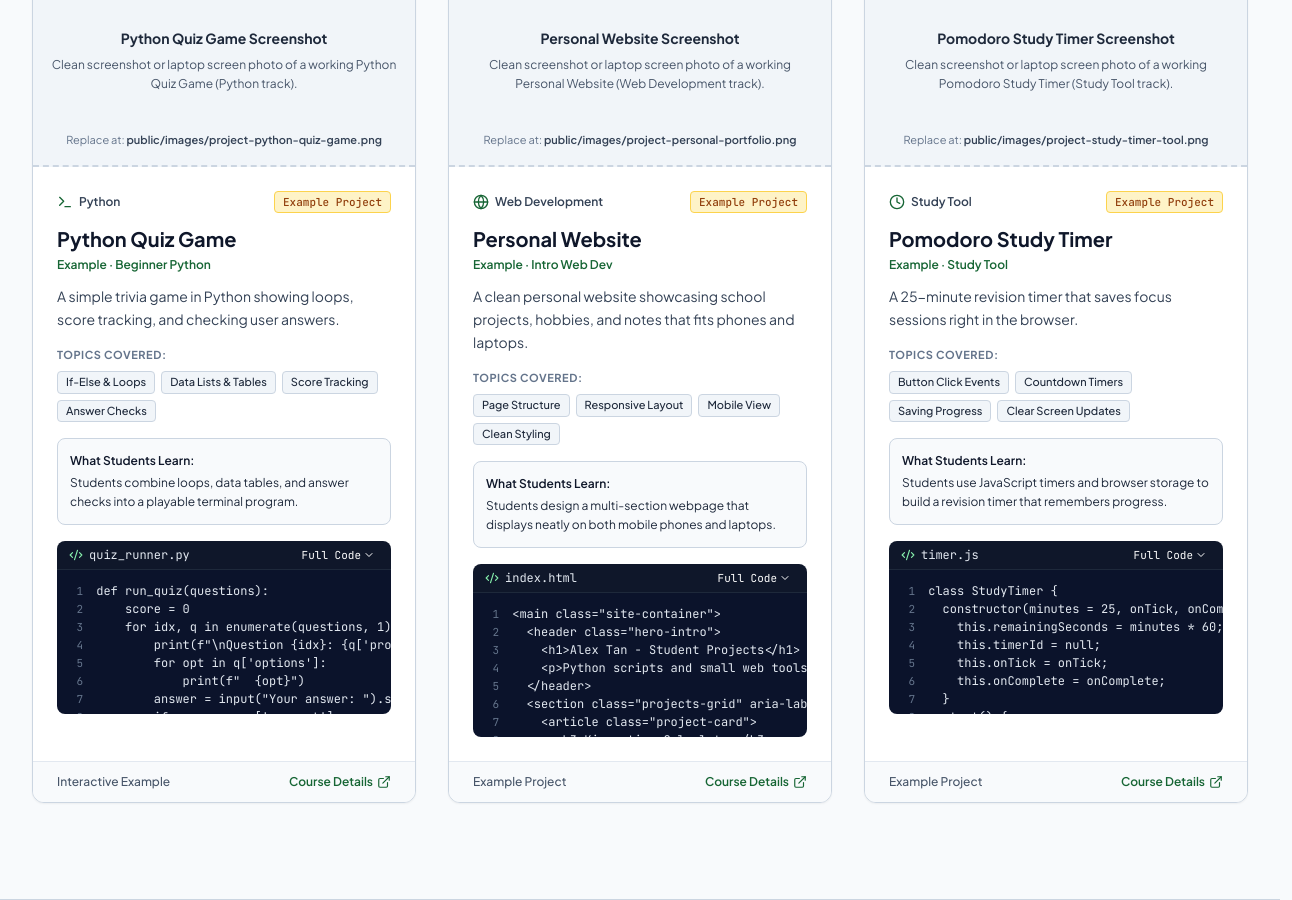
Showcase Section Component › expands full code snippet when "Full Code" toggle is clicked
This screenshot has width=1292, height=900.
(page scrolled)
Click the button with aria-label "expand code snippet" at coordinates (338, 555), box 298,547 -> 379,563
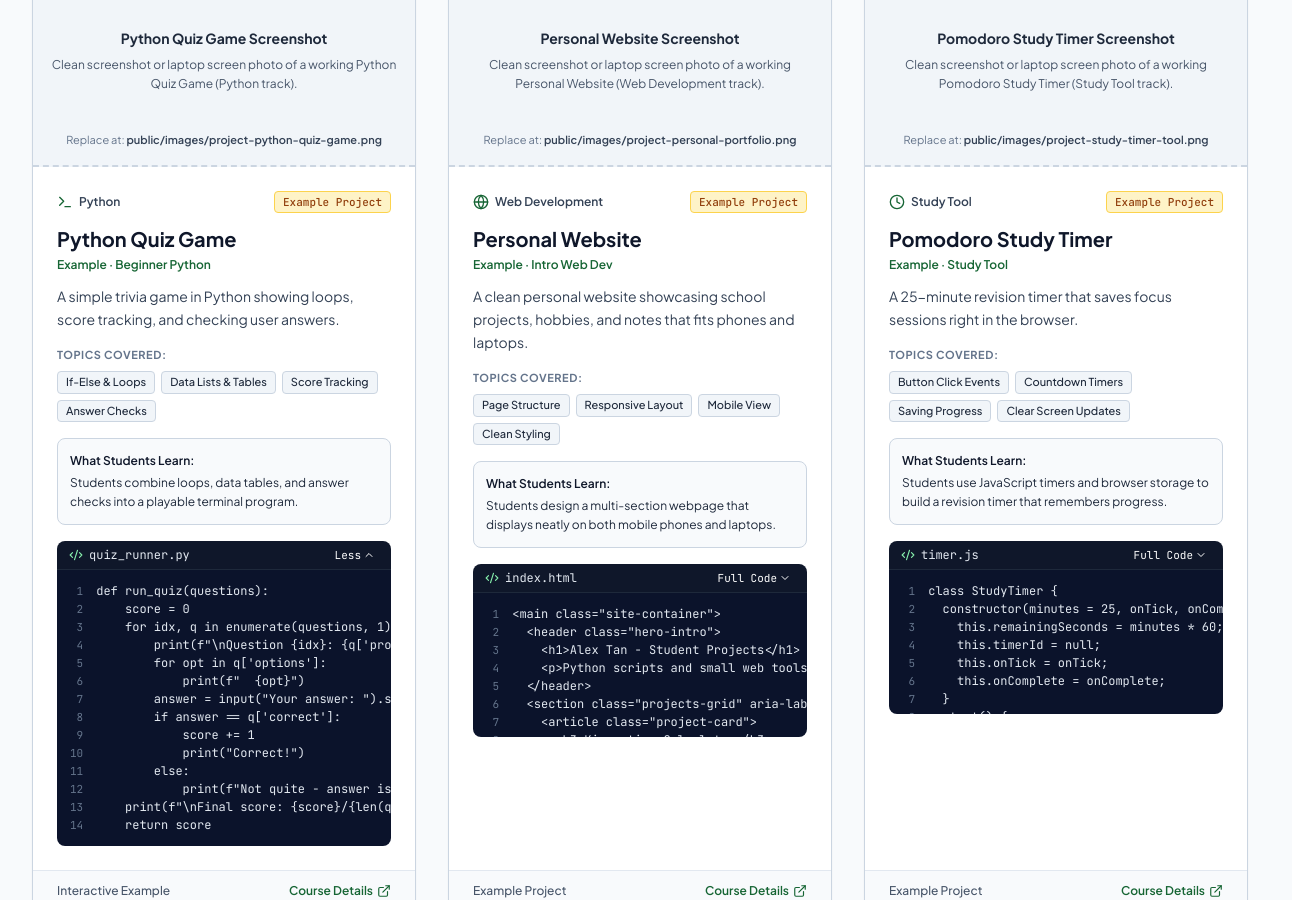
Check: the button named "expand code snippet" is expanded, box 331,547 -> 379,563
